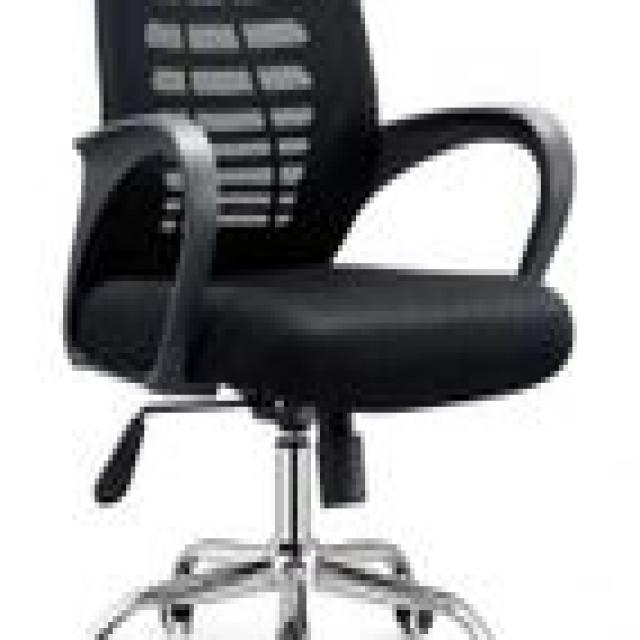others: (72, 6, 586, 640)
